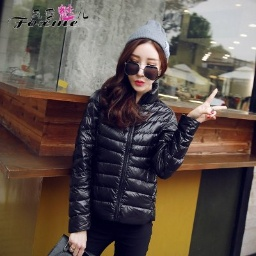face: (98, 34, 169, 121)
